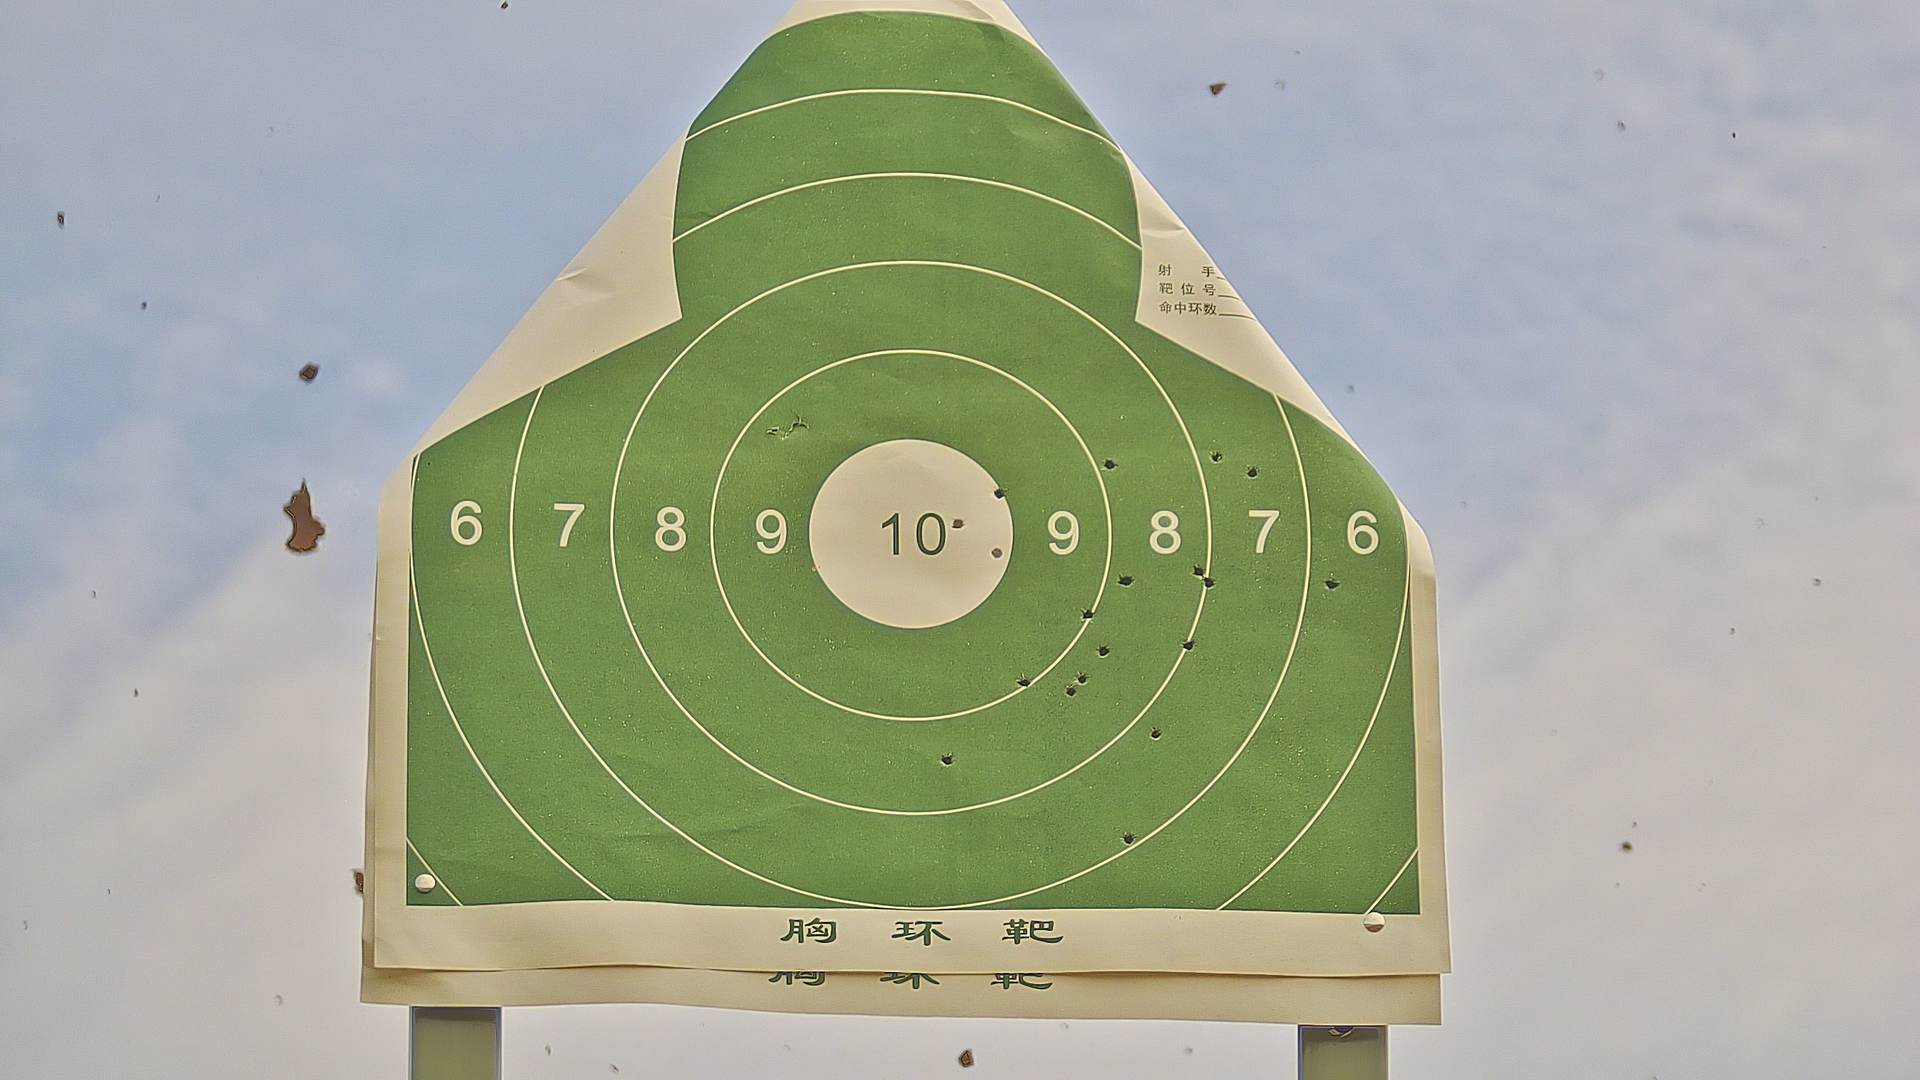hole: (1317, 570, 1350, 595), (1113, 824, 1146, 848), (1098, 454, 1126, 473), (934, 745, 955, 769), (1193, 574, 1220, 592), (1072, 667, 1091, 692), (1241, 462, 1262, 483), (945, 514, 967, 534), (1178, 634, 1199, 654), (1145, 723, 1166, 741), (1093, 641, 1116, 658), (1011, 673, 1034, 690), (1116, 568, 1135, 587), (1207, 446, 1224, 465), (992, 481, 1009, 500), (986, 541, 1006, 556), (1189, 559, 1203, 580), (1080, 604, 1095, 622), (1065, 680, 1076, 702)
kernel: (902, 530, 919, 541)
target: (409, 13, 1419, 909)
ten: (810, 436, 1017, 629)
